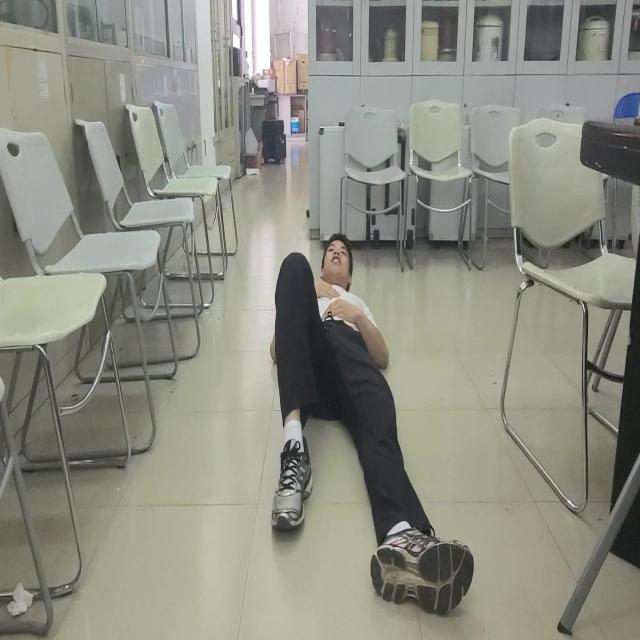Fall: (271, 235, 474, 616)
